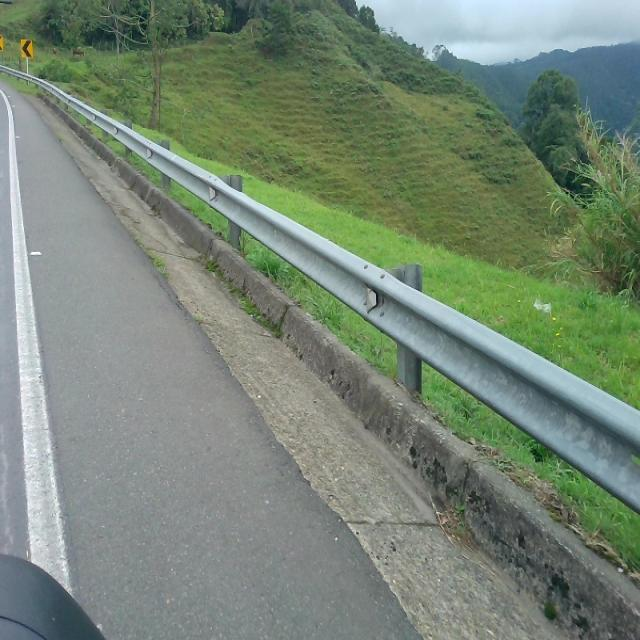DITCH: (1, 78, 638, 638), (12, 78, 638, 639)
